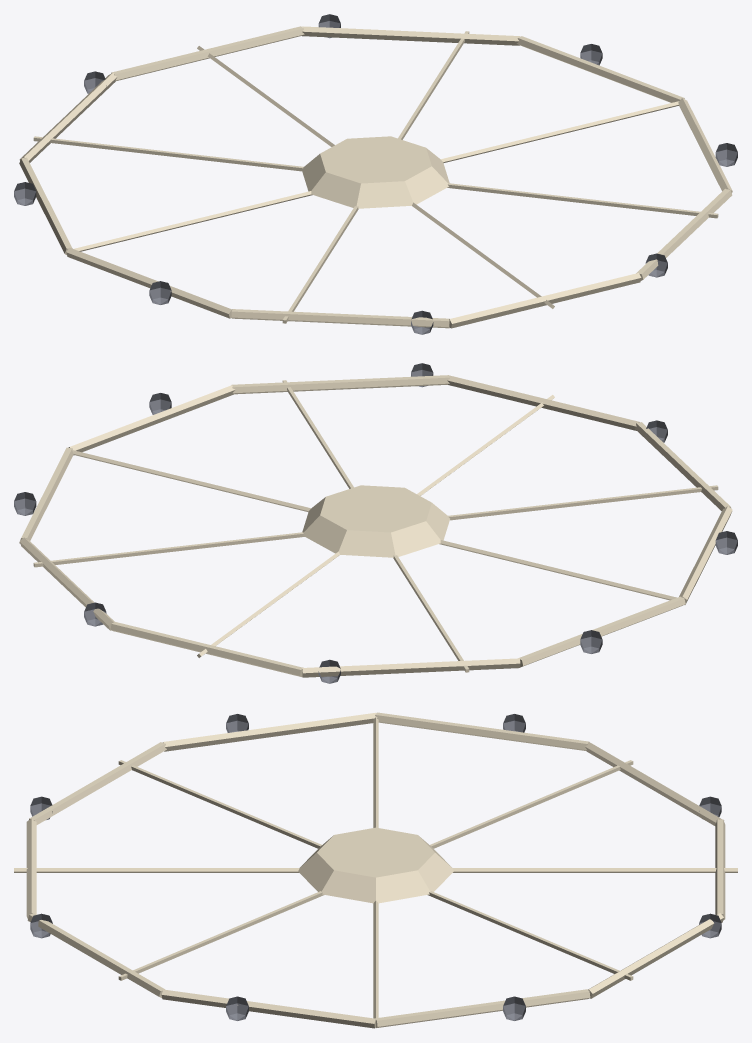
File: legendary-warriors-kit-retiarius-net-4dda78bc__39213.glb
3 renders of one model, top to bottom at view 1: azimuth 30°, elevation 25°; view 2: azimuth 150°, elevation 25°; view 3: azimuth 270°, elevation 25°, orthographic. The views are drawn at different scales.
Parts seen in each view (by area): view 1: retiarius-net; view 2: retiarius-net; view 3: retiarius-net.
Boxes of the visible parts, box(x1,y1,x2,y2) form: retiarius-net: box(14, 14, 737, 334); retiarius-net: box(14, 363, 737, 683); retiarius-net: box(14, 712, 737, 1028).
Size of the model in its own units: 1.11 by 0.045 by 1.1.
